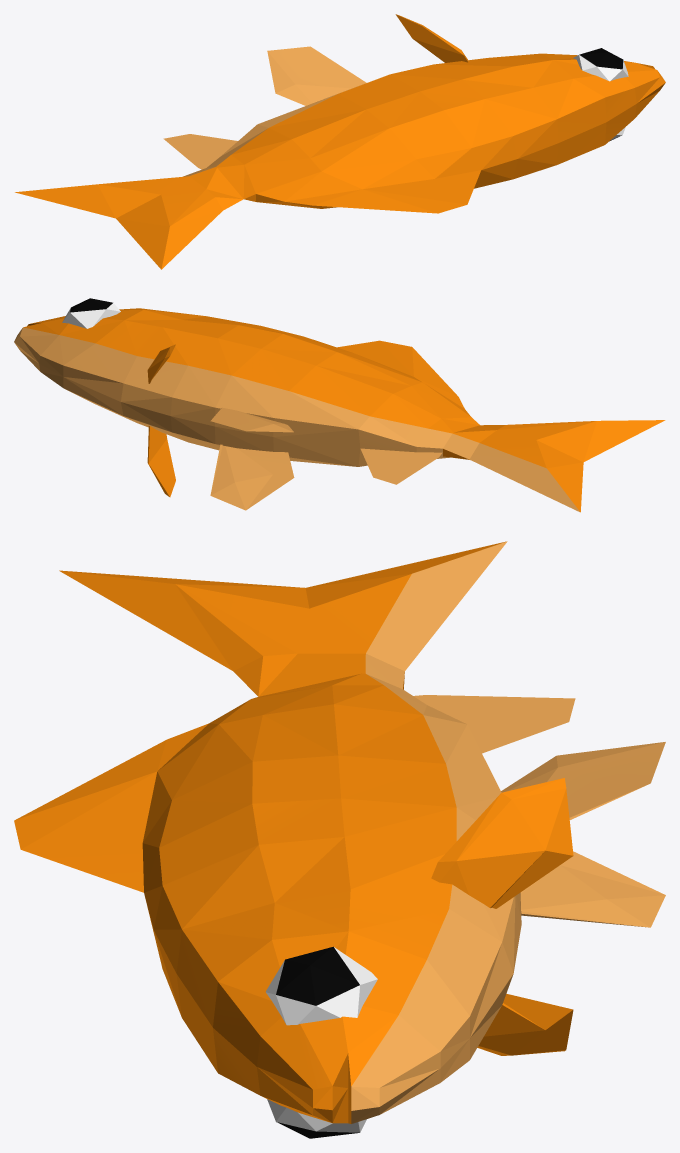
File: Goldfish.glb
The picture shows the model from 3 angles, top to bottom: view 1: azimuth 30°, elevation 25°; view 2: azimuth 150°, elevation 25°; view 3: azimuth 270°, elevation 25°; orthographic projection. The views are drawn at different scales.
Parts seen in each view (by area): view 1: Goldfish; view 2: Goldfish; view 3: Goldfish.
Part boxes in pixels (box(x1,y1,x2,y2)): Goldfish: box(15, 14, 665, 269); Goldfish: box(14, 298, 665, 512); Goldfish: box(14, 541, 665, 1138).
Bounding box in the file's own units: 0.2322 × 0.0519 × 0.1123.
1 material, 1 textured.
